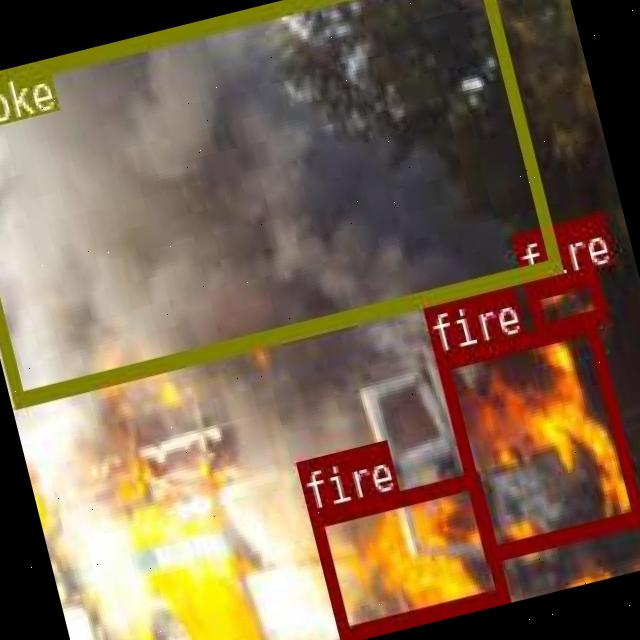fire: (434, 316, 640, 560), (306, 472, 504, 638), (522, 266, 604, 336)
smoke: (0, 0, 559, 404)
